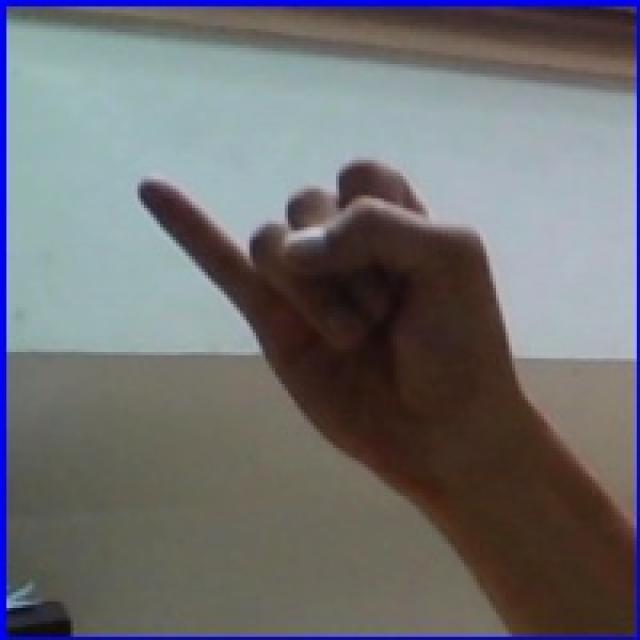J: (106, 119, 603, 520)
